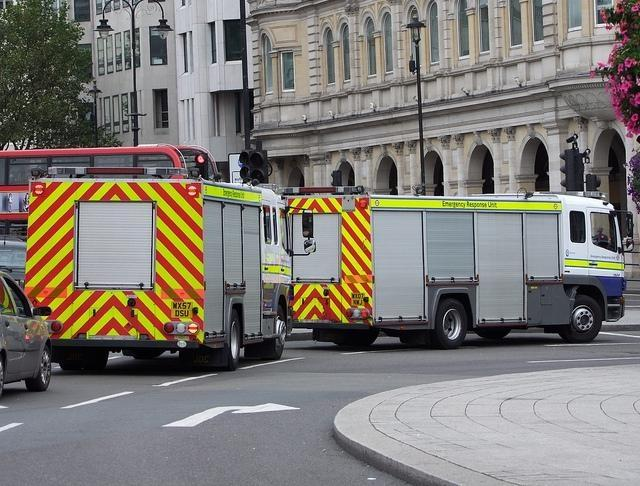bus: (0, 142, 188, 242)
car: (2, 273, 58, 391)
truck: (25, 167, 316, 374), (283, 185, 629, 349)
